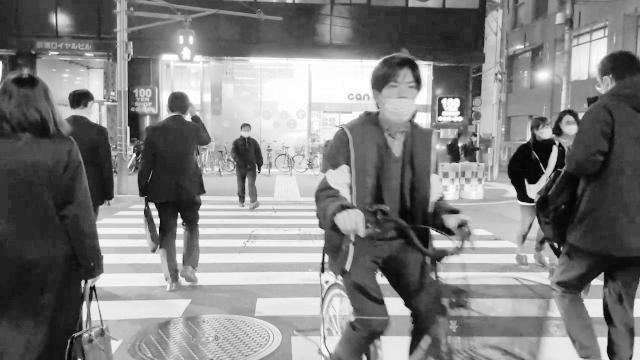berjalan: (536, 55, 640, 360), (130, 92, 214, 288), (224, 122, 268, 218)
